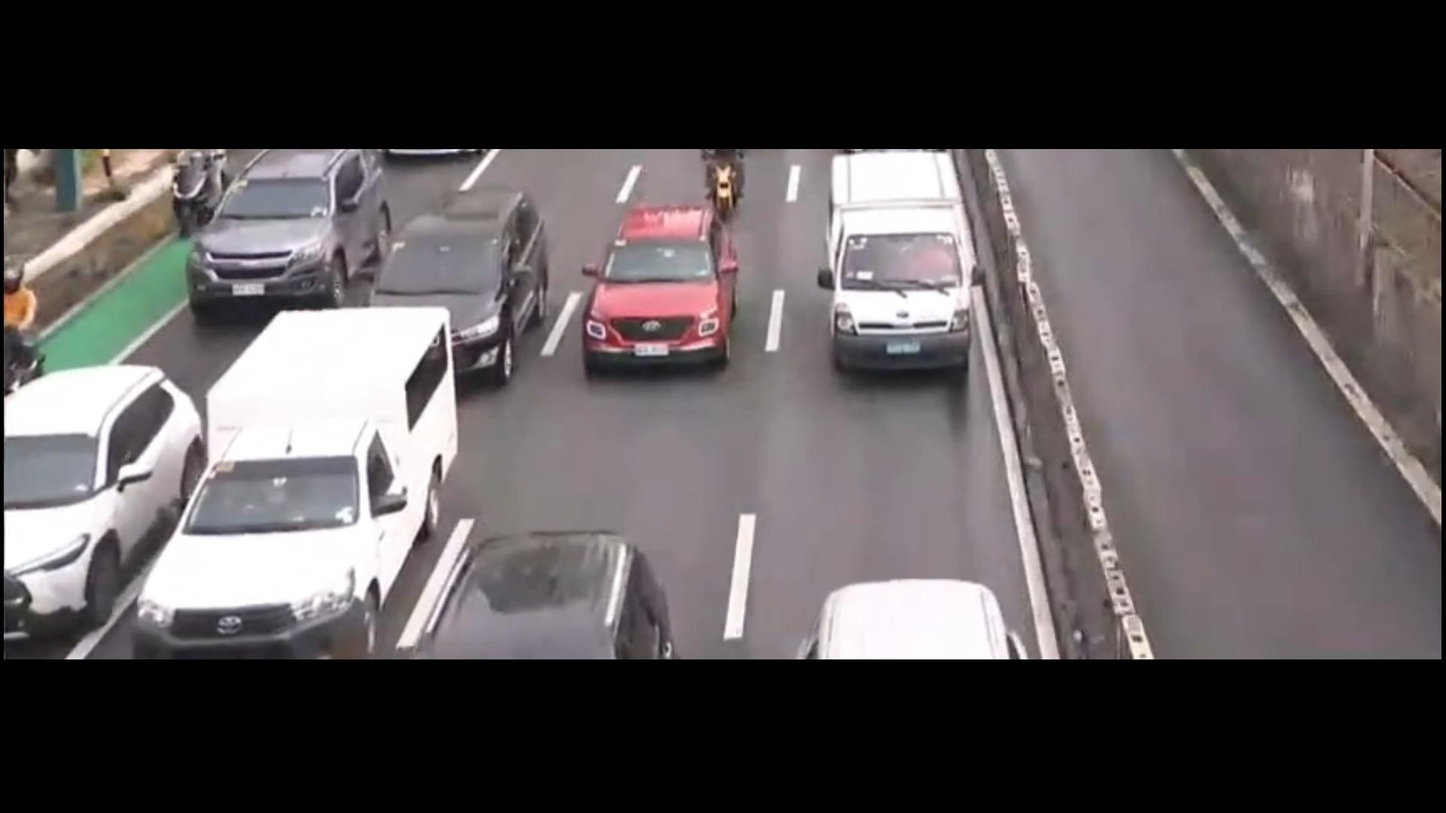Motorcycle: (0, 261, 53, 417)
Multicab: (129, 306, 455, 661), (821, 147, 977, 369)
SUV: (0, 363, 202, 635), (358, 190, 547, 382), (188, 151, 388, 315), (587, 212, 743, 369)
